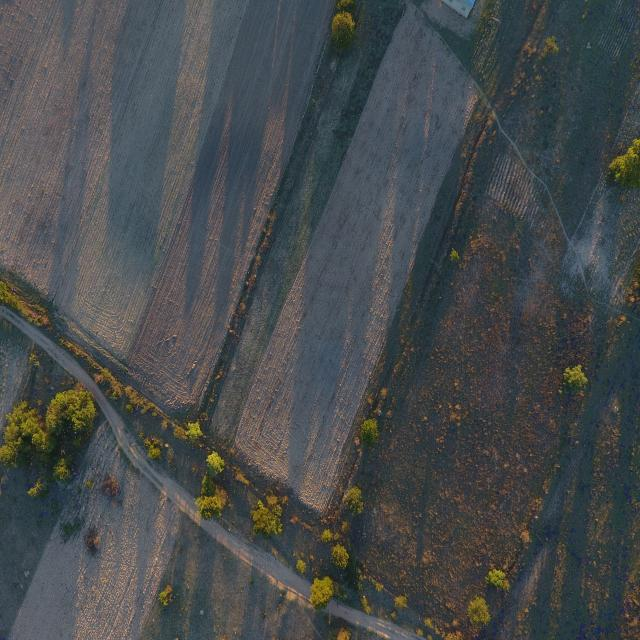boundaries: (5, 14, 552, 604)
